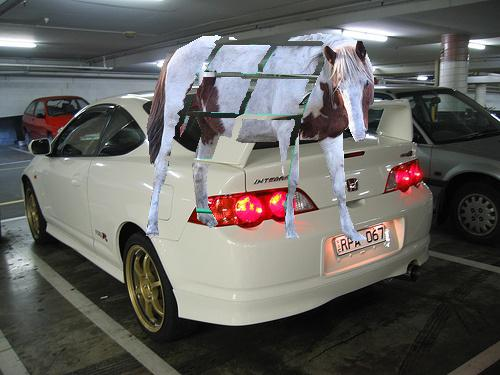tampered: (147, 34, 374, 241)
